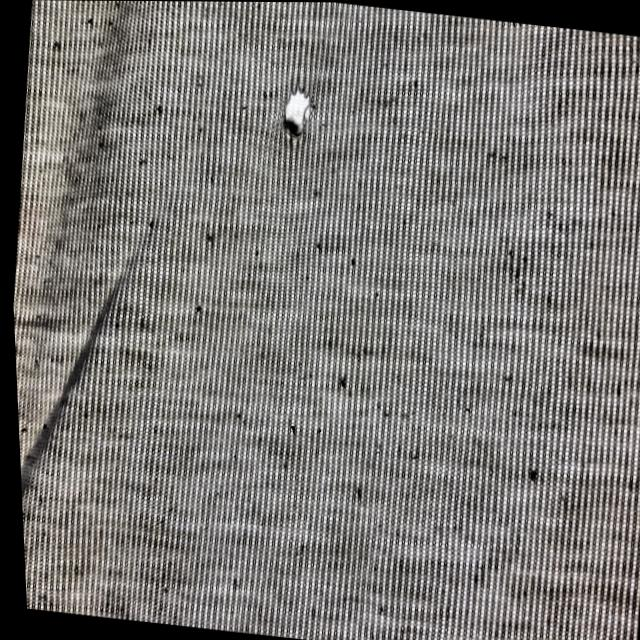Hole: (265, 67, 326, 156)
